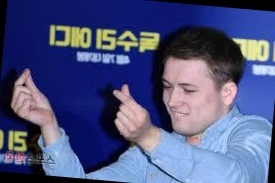oneheart: (7, 69, 58, 125), (101, 84, 156, 135)
